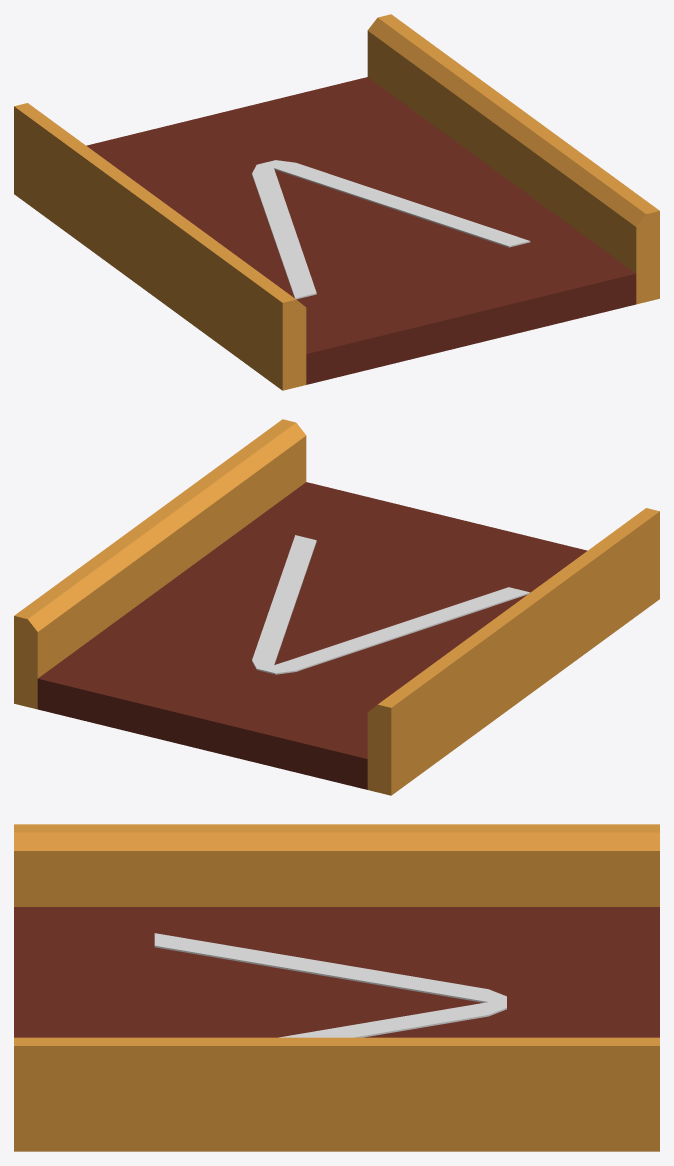
The model's file is wood belt.glb.
The picture shows the model from 3 angles, top to bottom: view 1: azimuth 30°, elevation 25°; view 2: azimuth 150°, elevation 25°; view 3: azimuth 270°, elevation 25°; orthographic projection. The views are drawn at different scales.
Parts seen in each view (by area): view 1: 立方体, 立方体.001; view 2: 立方体, 立方体.001; view 3: 立方体, 立方体.001.
Part boxes in pixels (x1=…): 立方体: x1=14, y1=14, x2=659, y2=390; 立方体.001: x1=252, y1=160, x2=530, y2=299; 立方体: x1=14, y1=419, x2=659, y2=795; 立方体.001: x1=252, y1=535, x2=530, y2=674; 立方体: x1=14, y1=824, x2=659, y2=1151; 立方体.001: x1=154, y1=933, x2=506, y2=1037.
Bounding box in the file's own units: 0.811 × 0.1804 × 1.
